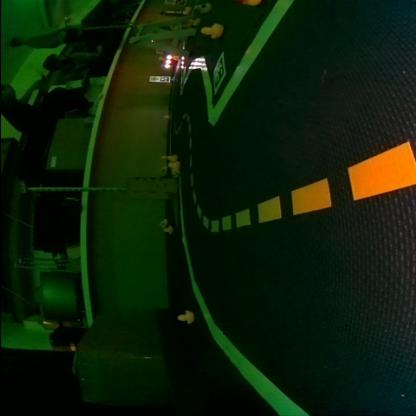Duckie: (200, 24, 220, 36), (176, 310, 190, 323), (168, 162, 178, 171), (162, 226, 170, 232), (166, 154, 174, 160), (159, 166, 167, 172), (158, 155, 166, 160), (161, 114, 169, 119), (160, 220, 166, 224)
Duckiebot: (159, 54, 173, 68)
Intersection sign: (149, 76, 157, 81)
QR code: (210, 52, 222, 93), (158, 76, 168, 82)
